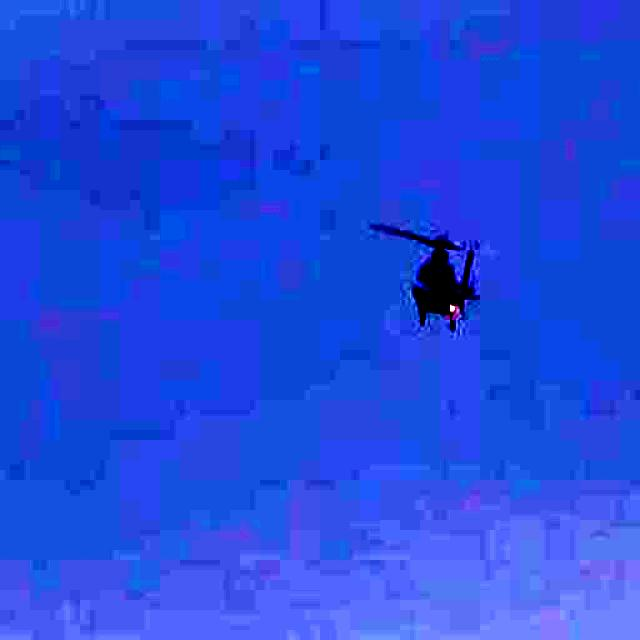drone: (341, 194, 538, 354)
